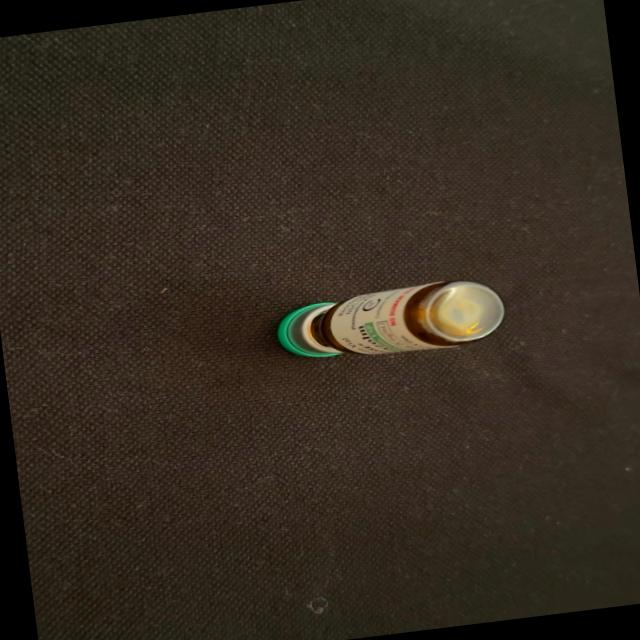midazolm: (275, 275, 504, 367)
